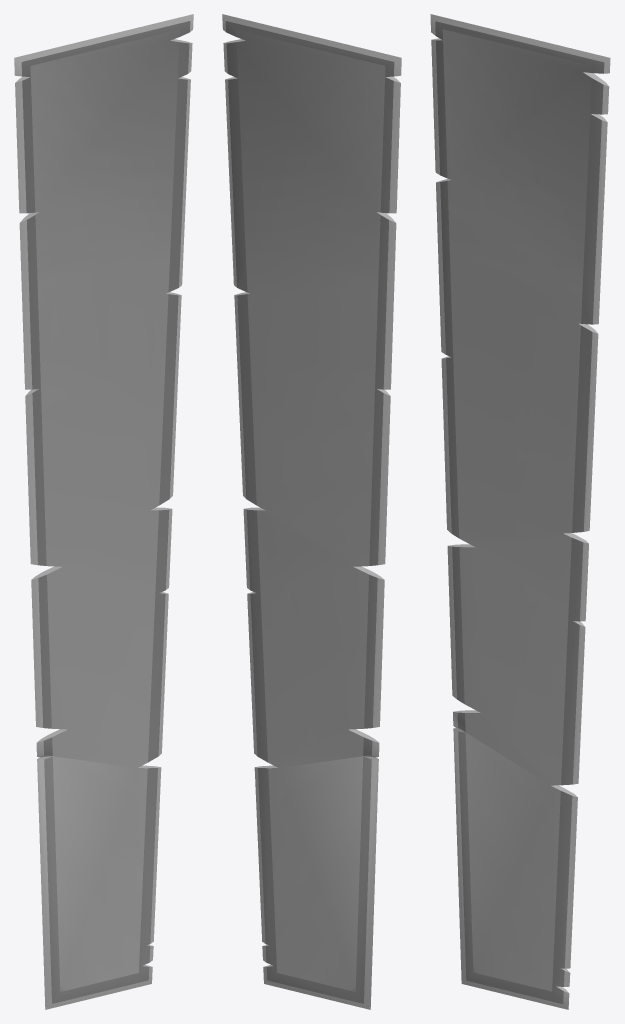
File: stone_blade_scratched_058.glb
The picture shows the model from 3 angles, left to right: view 1: azimuth 30°, elevation 25°; view 2: azimuth 150°, elevation 25°; view 3: azimuth 330°, elevation 25°; orthographic projection.
Parts seen in each view (by area): view 1: stone_blade_scratched.058; view 2: stone_blade_scratched.058; view 3: stone_blade_scratched.058.
Part boxes in pixels (box(x1,y1,x2,y2)): stone_blade_scratched.058: box(14, 14, 193, 1009); stone_blade_scratched.058: box(222, 14, 401, 1009); stone_blade_scratched.058: box(430, 14, 610, 1009).
Size of the model in its own units: 2.19 by 11.21 by 0.0882.
Materials: 1 (1 with a texture image).
